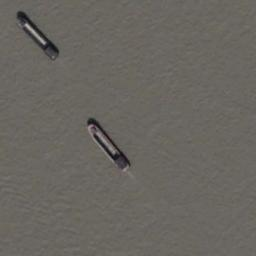boat: (85, 120, 130, 172), (16, 12, 59, 60)
